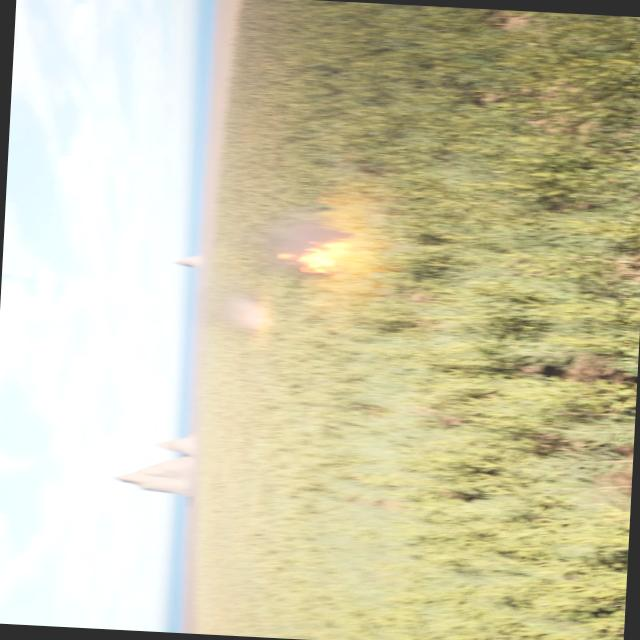fire: (275, 234, 343, 274)
smoke: (260, 213, 349, 259), (210, 290, 274, 332)
